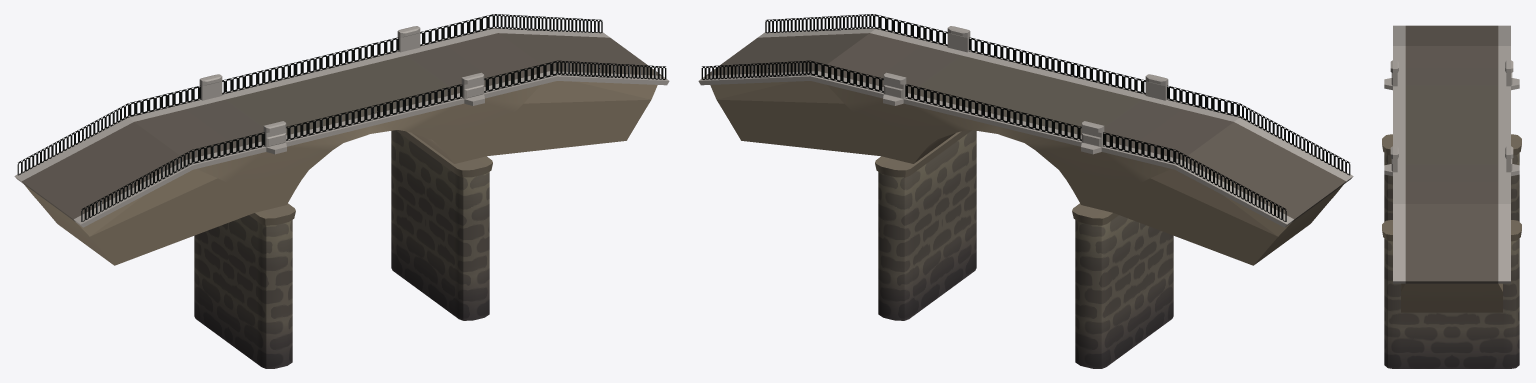
File: Bridge.fbx
The picture shows the model from 3 angles, left to right: view 1: azimuth 30°, elevation 25°; view 2: azimuth 150°, elevation 25°; view 3: azimuth 270°, elevation 25°; orthographic projection. The views are drawn at different scales.
Visible parts, largest first — view 1: Box001, Plane001; view 2: Box001, Plane001; view 3: Box001.
Part boxes in pixels (x1,y1,x2,y2): Box001: (14, 26, 669, 368); Plane001: (17, 14, 666, 221); Box001: (698, 26, 1353, 368); Plane001: (701, 14, 1350, 221); Box001: (1382, 25, 1521, 368).
Bounding box in the file's own units: 793 × 307 × 183.
